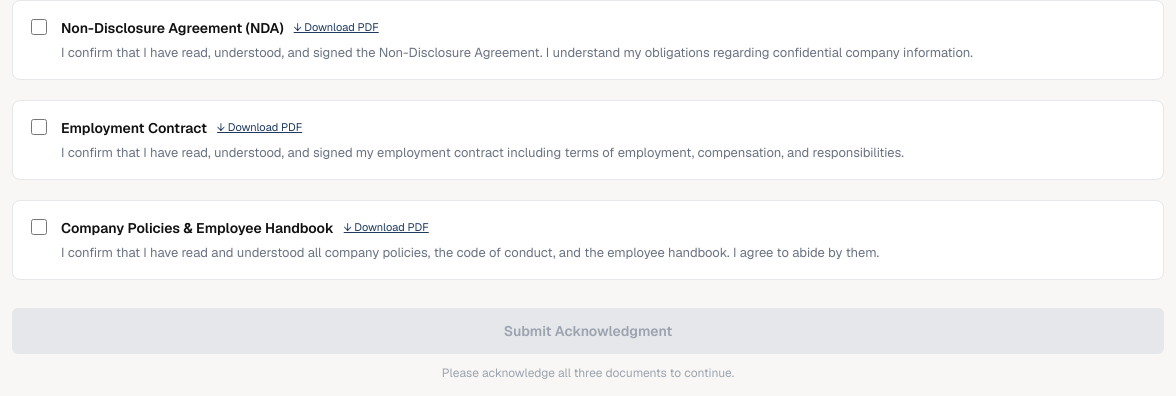
Test: AcknowledgeForm › shows loading state "Saving…" while submitting
The image size is (1176, 396).
Click the 1st checkbox: (39, 27) [31,19,47,35]
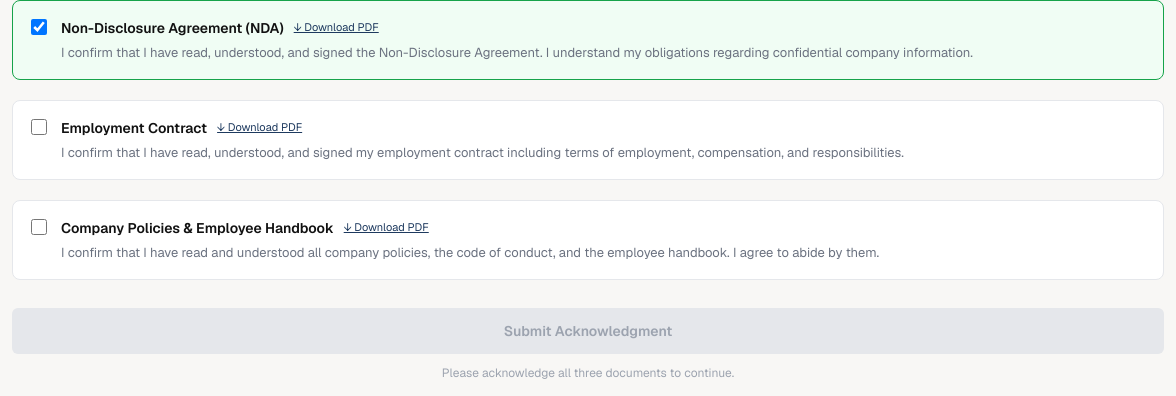
Click the 2nd checkbox: (39, 127) [31,119,47,135]
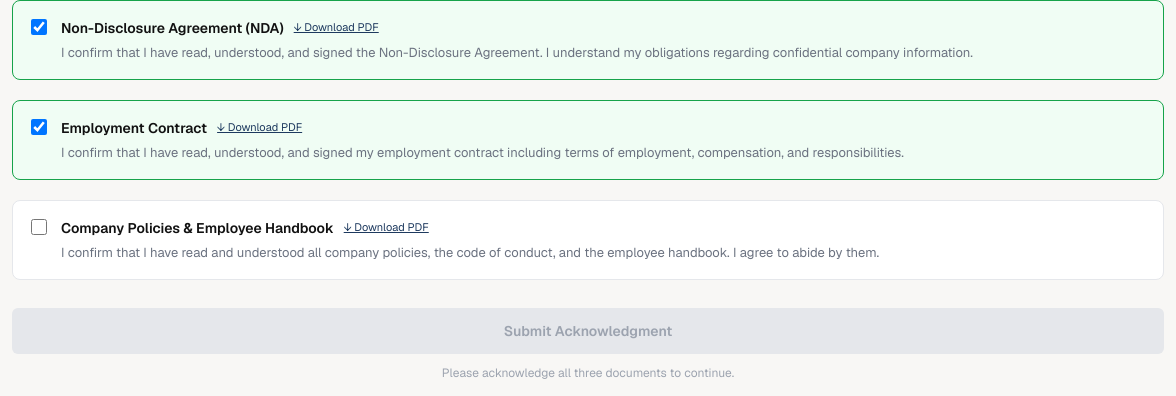
Click the 3rd checkbox: (39, 227) [31,219,47,235]
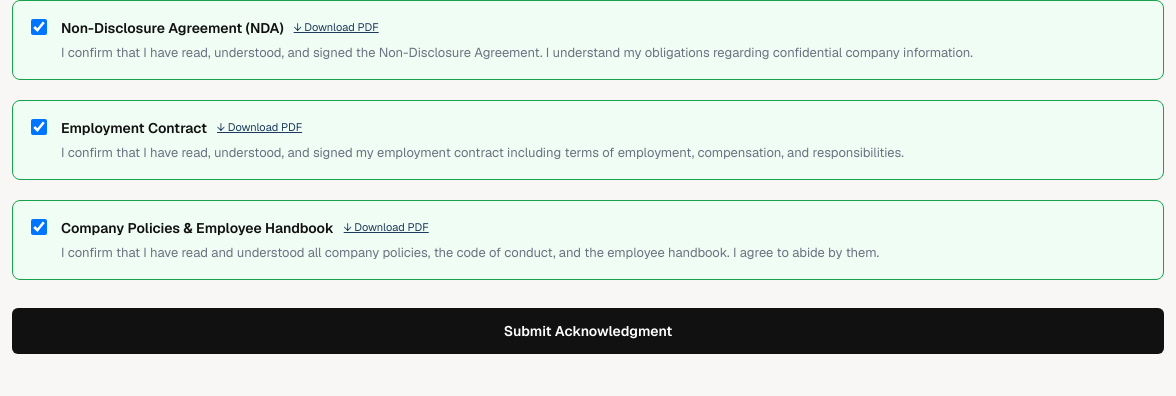
Click the button "Submit Acknowledgment": (588, 331) [12,308,1164,354]
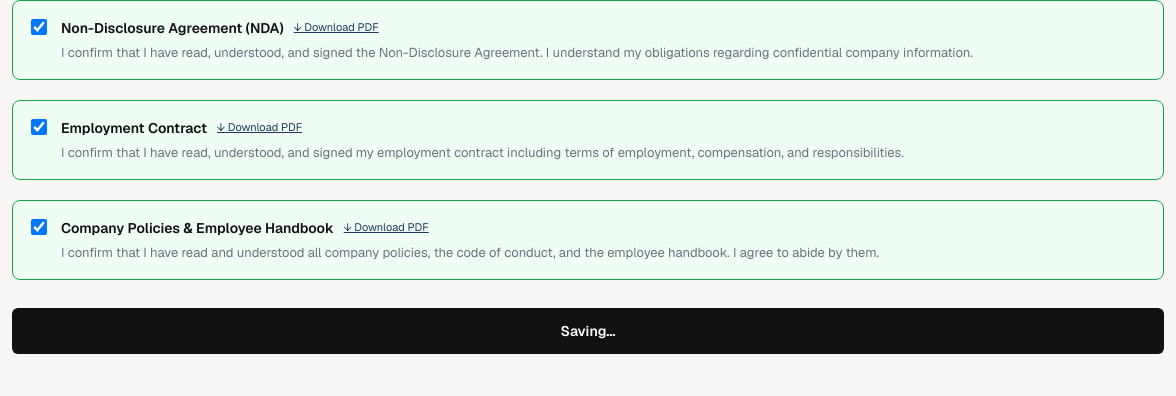
Expected: the button "Saving…" is shown, [12,308,1164,354]
